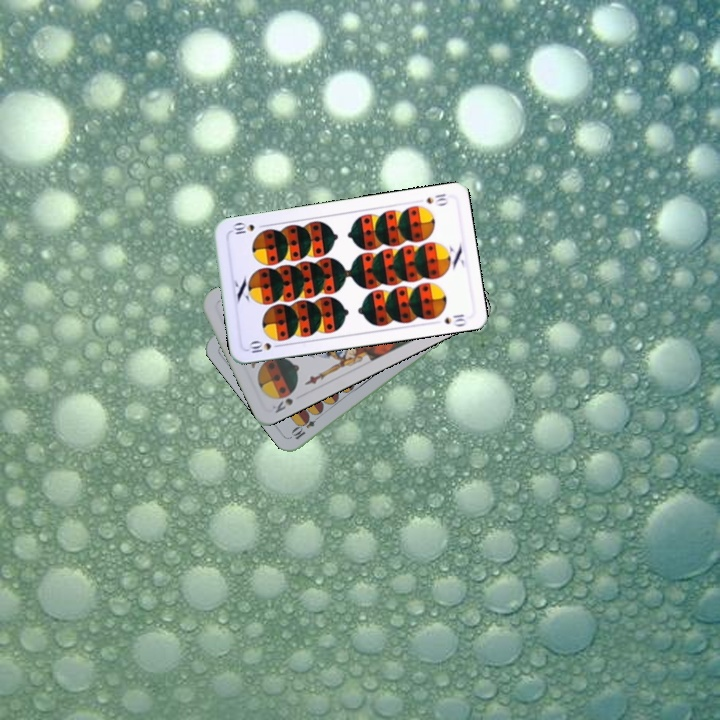E10: (288, 410, 323, 442)
S10: (244, 335, 284, 356), (422, 190, 450, 208)
SK: (271, 386, 298, 416)
